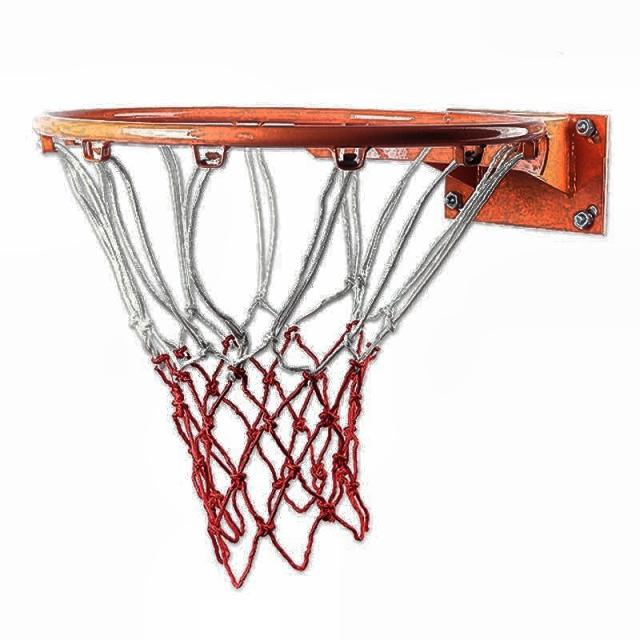board: (34, 103, 532, 575)
